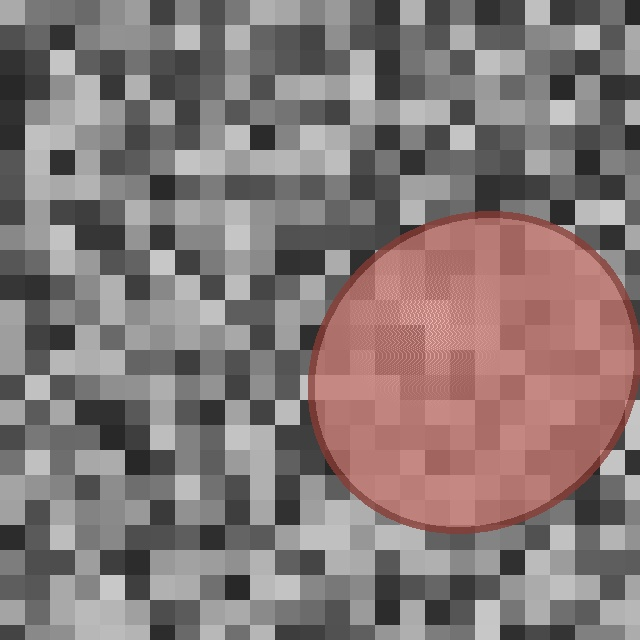lens: (311, 215, 637, 529)
